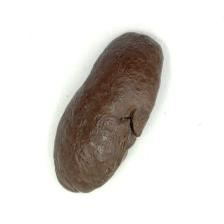NG: (118, 106, 144, 153)
